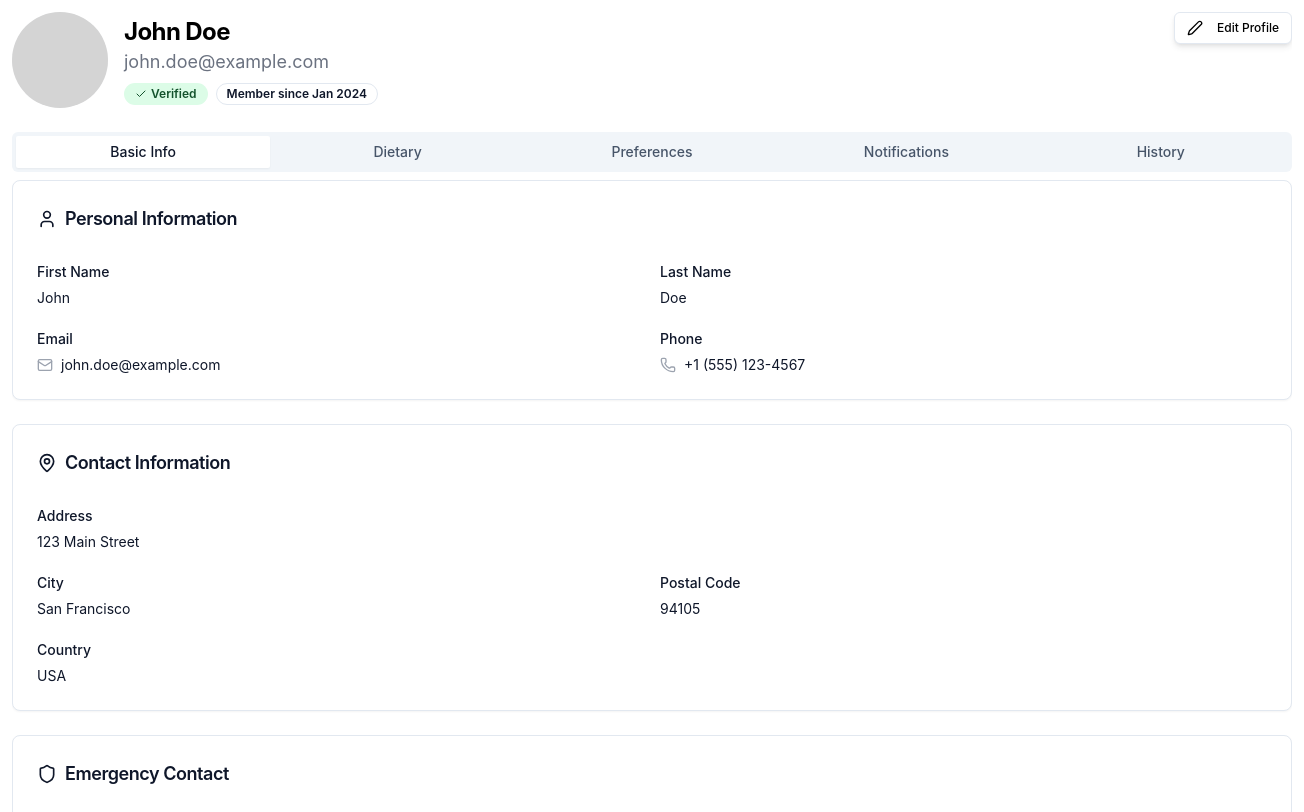
Test: UserProfile › Edit Mode › toggles edit mode
Step 1. Click the button "Edit Profile" → (1233, 28), box top-left (1174, 12), bottom-right (1292, 44)
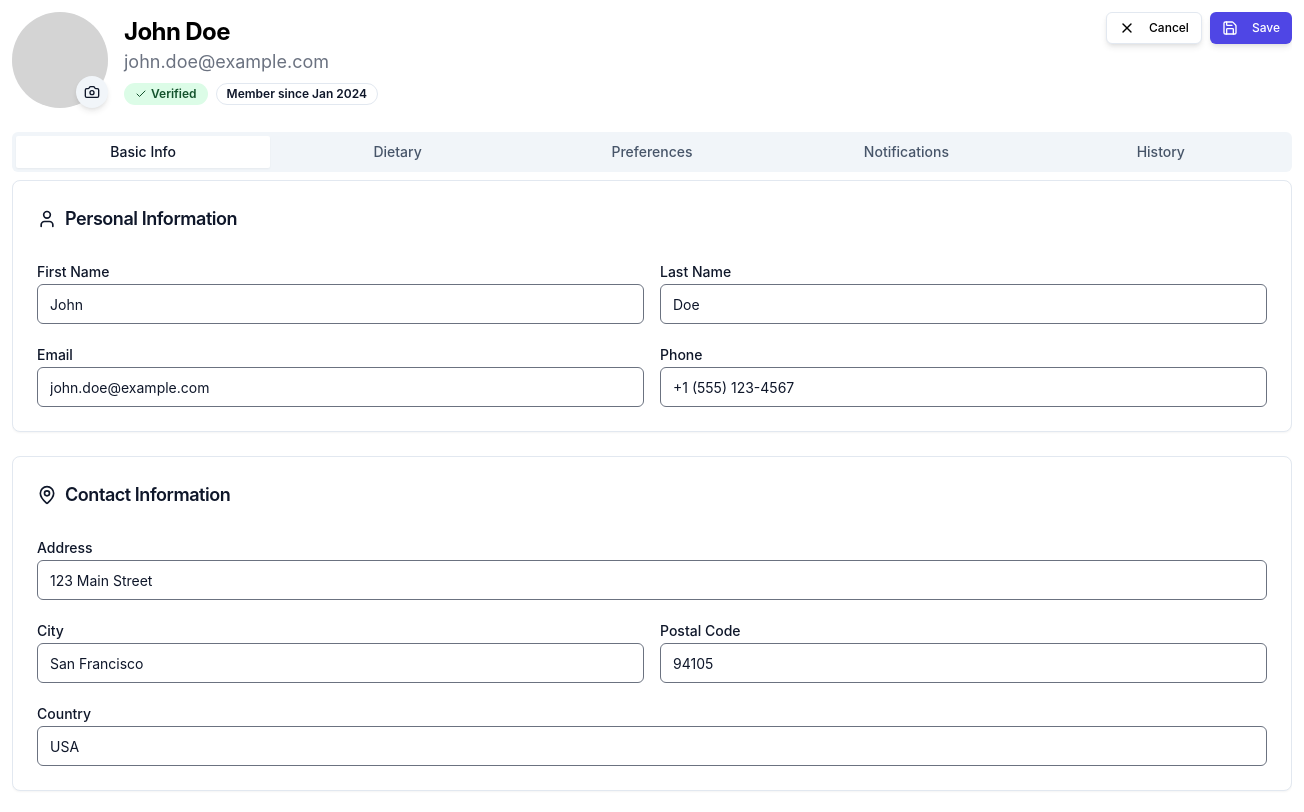
Now the field showing "John" is shown, box top-left (37, 284), bottom-right (644, 324)
Now the field showing "Doe" is shown, box top-left (660, 284), bottom-right (1267, 324)
Now the button "Save" is shown, box top-left (1210, 12), bottom-right (1292, 44)
